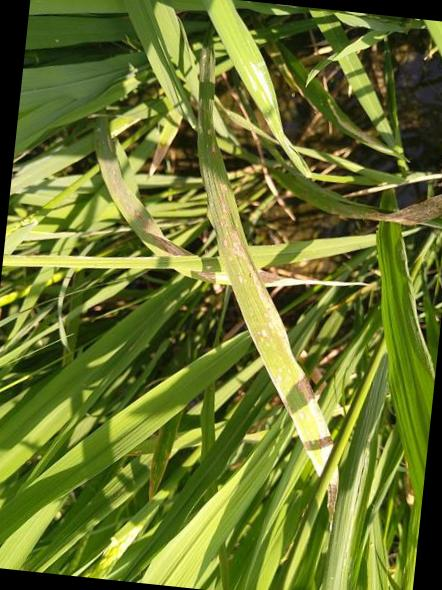Leaf Streak: (196, 44, 333, 473), (89, 112, 193, 258), (336, 192, 442, 224), (257, 271, 367, 288), (326, 466, 340, 534), (180, 270, 232, 285)
